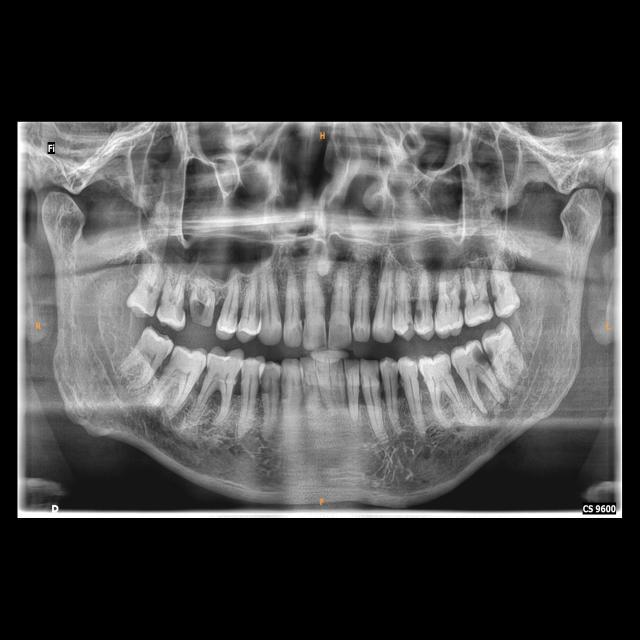dentin-curugu: (190, 294, 211, 328), (471, 348, 489, 370), (413, 301, 426, 325)
